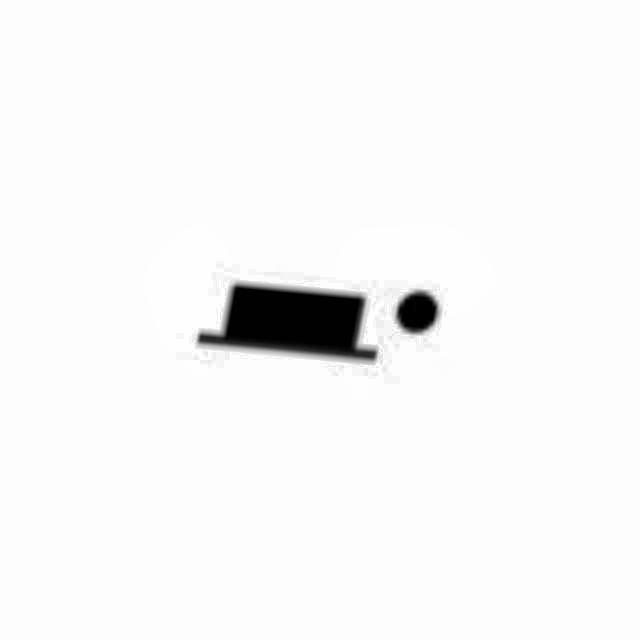Half-rest: (172, 271, 460, 377)
